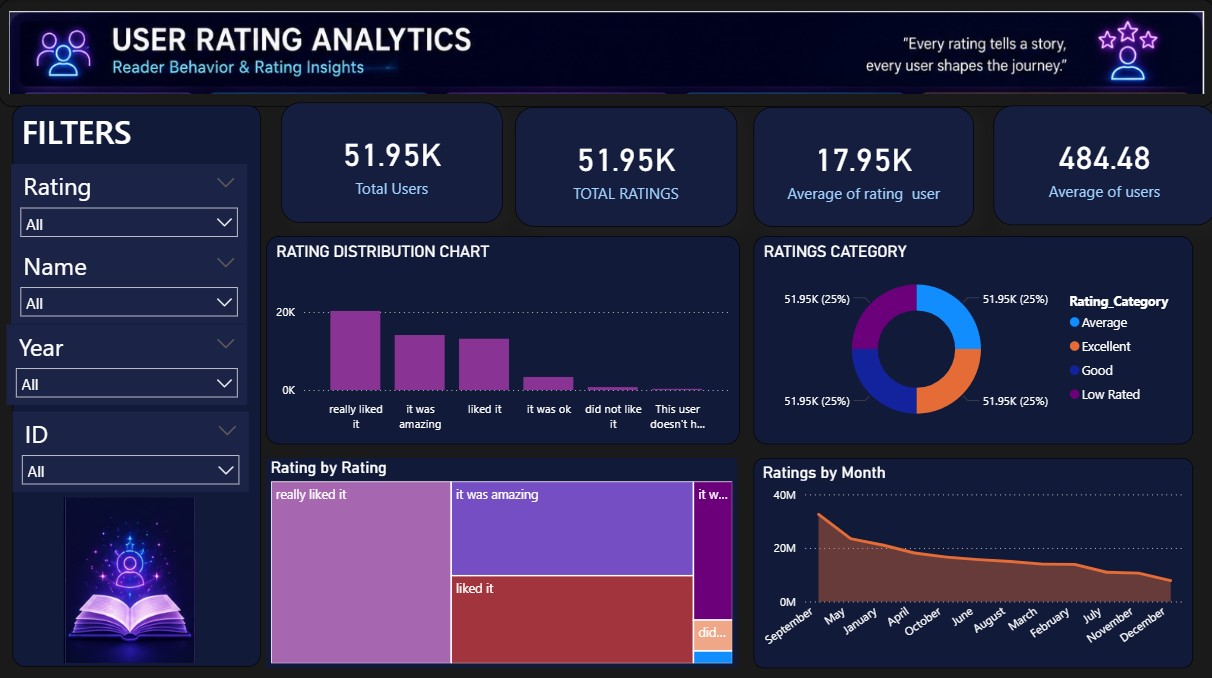

What the dashboard file says about the page in this screenshot:
{"tool":"powerbi","page":{"name":"User Analytics","canvas":[1280,720],"ordinal":1},"visuals":[{"type":"image","box":[0,0,1280,113.3],"z":0},{"type":"textbox","title":"        FILTERS","box":[14.1,112.5,261,590.8],"z":1000},{"type":"slicer","fields":{"Values":["user_rating_0_to_1000.Rating"]},"box":[12.5,173.5,248.5,84.4],"z":2000},{"type":"slicer","fields":{"Values":["user_rating_0_to_1000.Name"]},"box":[12.5,257.9,248.5,84.4],"z":3000},{"type":"slicer","fields":{"Values":["user_rating_0_to_1000.ID"]},"box":[14.1,434.5,248.5,84.4],"z":4000},{"type":"image","box":[14.1,518.9,247,184.4],"z":5000},{"type":"slicer","fields":{"Values":["books.Year"]},"box":[7.8,342.3,253.2,84.4],"z":6000},{"type":"card","fields":{"Values":["CountNonNull(user_rating_0_to_1000.ID)"]},"box":[296.7,108.3,233.3,126.7],"z":7000},{"type":"card","fields":{"Values":["CountNonNull(user_rating_0_to_1000.Rating)"]},"box":[543.2,113.7,233.7,126.3],"z":8000},{"type":"card","fields":{"Values":["Avg(books.ratings_count)"]},"box":[794.2,113.7,232.1,126.3],"z":9000},{"type":"card","fields":{"Values":["Avg(user_rating_0_to_1000.ID)"]},"box":[1046.9,112.1,233.7,126.3],"z":10000},{"type":"clusteredColumnChart","title":"RATING DISTRIBUTION CHART","fields":{"Y":["CountNonNull(user_rating_0_to_1000.Rating)"],"Category":["user_rating_0_to_1000.Rating"]},"box":[281.1,249.5,499,219.5],"z":11000},{"type":"donutChart","title":"RATINGS CATEGORY","fields":{"Y":["CountNonNull(user_rating_0_to_1000.Rating)"],"Category":["books.Rating_Category"]},"box":[794.2,249.5,462.6,219.5],"z":12000},{"type":"stackedAreaChart","title":"Ratings by Month","fields":{"Category":["books.Month"],"Y":["Sum(books.ratings_count)"]},"box":[794.2,483.2,462.6,221.1],"z":13000},{"type":"treemap","title":" Rating by Rating","fields":{"Group":["user_rating_0_to_1000.Name","user_rating_0_to_1000.Rating"],"Values":["CountNonNull(user_rating_0_to_1000.Rating)"]},"box":[281.1,483.2,495.8,221.1],"z":13001}]}

Visuals, with their boxes in screenshot pixels (x1, y1, x2, y2), scaled from the page's 1280x720 canvas onto the 1212x678 screenshot:
image: box=[0, 0, 1211, 107]
"        FILTERS" textbox: box=[13, 106, 260, 662]
slicer - user_rating_0_to_1000.Rating: box=[12, 163, 247, 243]
slicer - user_rating_0_to_1000.Name: box=[12, 243, 247, 322]
slicer - user_rating_0_to_1000.ID: box=[13, 409, 249, 489]
image: box=[13, 489, 247, 662]
slicer - books.Year: box=[7, 322, 247, 402]
card - CountNonNull(user_rating_0_to_1000.ID): box=[281, 102, 502, 221]
card - CountNonNull(user_rating_0_to_1000.Rating): box=[514, 107, 736, 226]
card - Avg(books.ratings_count): box=[752, 107, 972, 226]
card - Avg(user_rating_0_to_1000.ID): box=[991, 106, 1211, 224]
"RATING DISTRIBUTION CHART" clusteredColumnChart: box=[266, 235, 739, 442]
"RATINGS CATEGORY" donutChart: box=[752, 235, 1190, 442]
"Ratings by Month" stackedAreaChart: box=[752, 455, 1190, 663]
" Rating by Rating" treemap: box=[266, 455, 736, 663]
